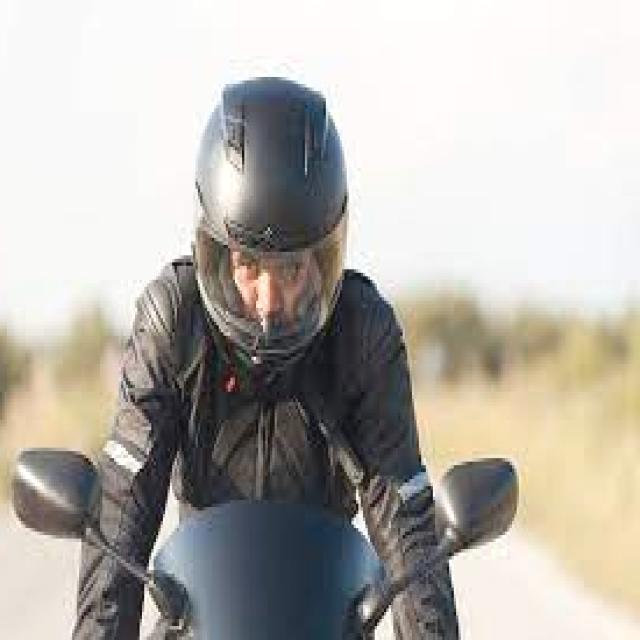helmet: (198, 77, 347, 360)
